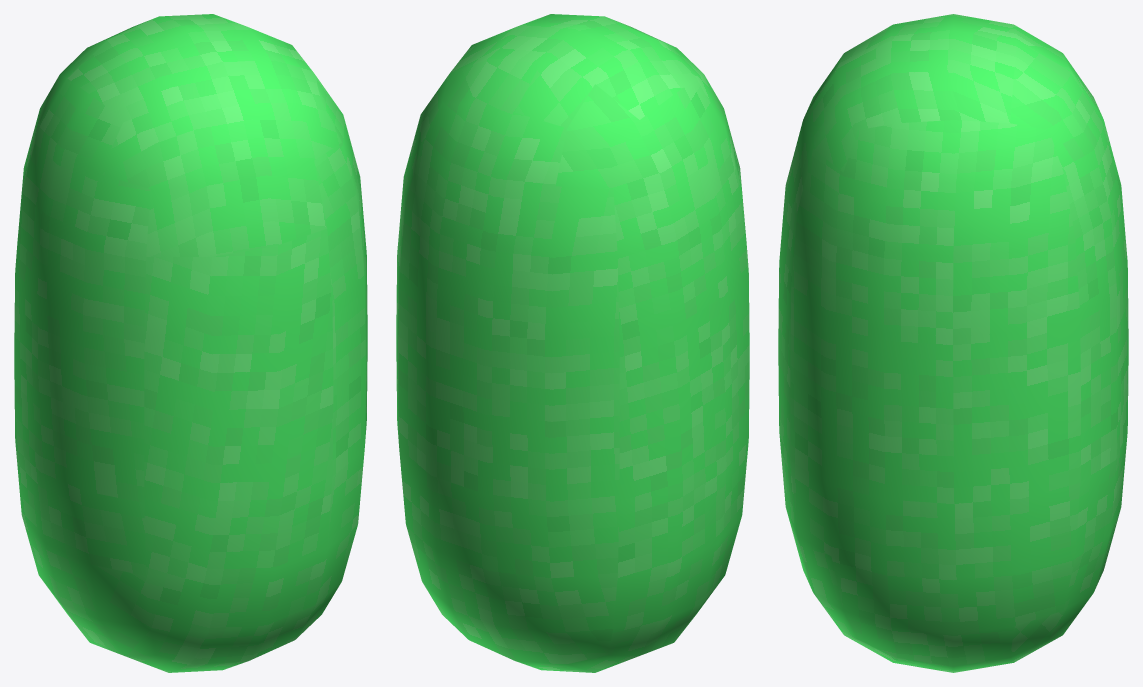
3 renders of one model, left to right at view 1: azimuth 30°, elevation 25°; view 2: azimuth 150°, elevation 25°; view 3: azimuth 270°, elevation 25°, orthographic.
Parts seen in each view (by area): view 1: Cube.1407; view 2: Cube.1407; view 3: Cube.1407.
Boxes of the visible parts, bbox=[...] form: Cube.1407: bbox=[14, 14, 367, 672]; Cube.1407: bbox=[396, 14, 749, 672]; Cube.1407: bbox=[778, 14, 1128, 672].
Bounding box in the file's own units: 0.2612 × 0.5138 × 0.2612.
Materials: 1 (1 with a texture image).
